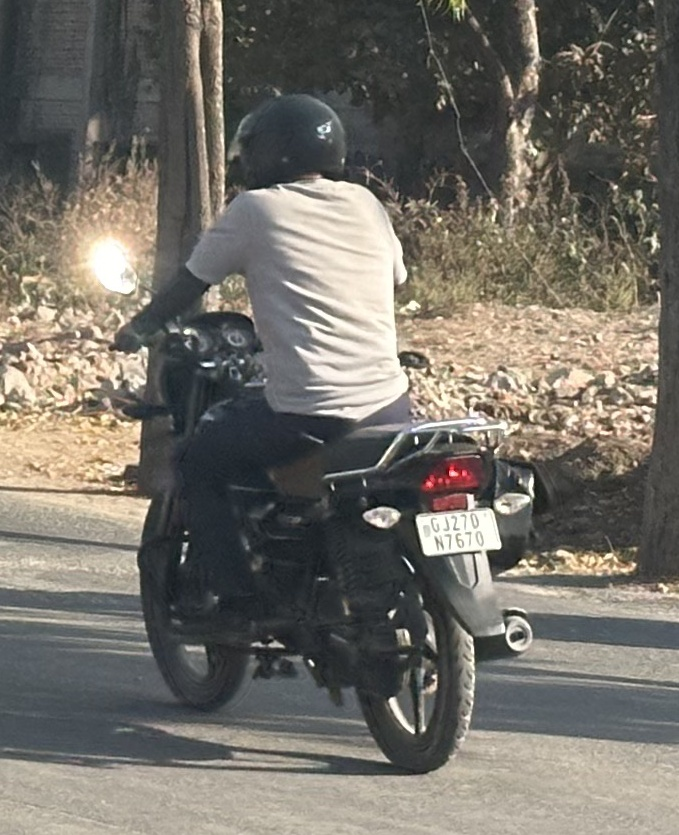BikeWithRider: (75, 80, 550, 777)
Helmet: (218, 86, 361, 194)
